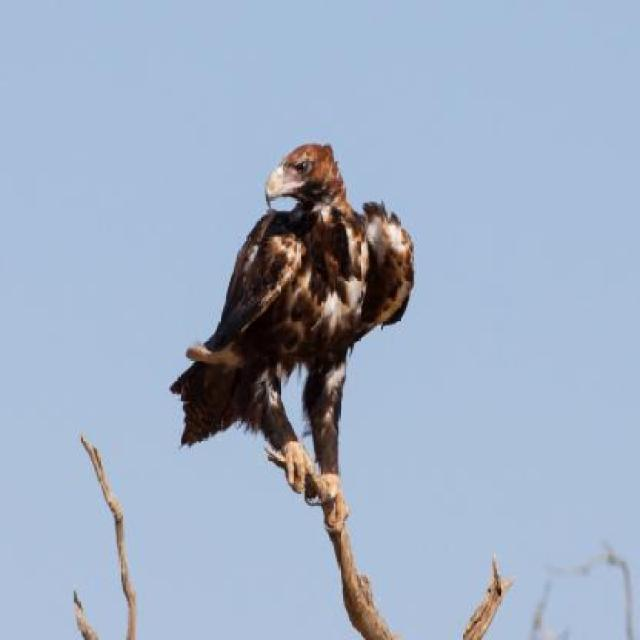Eagle: (168, 145, 416, 510)
